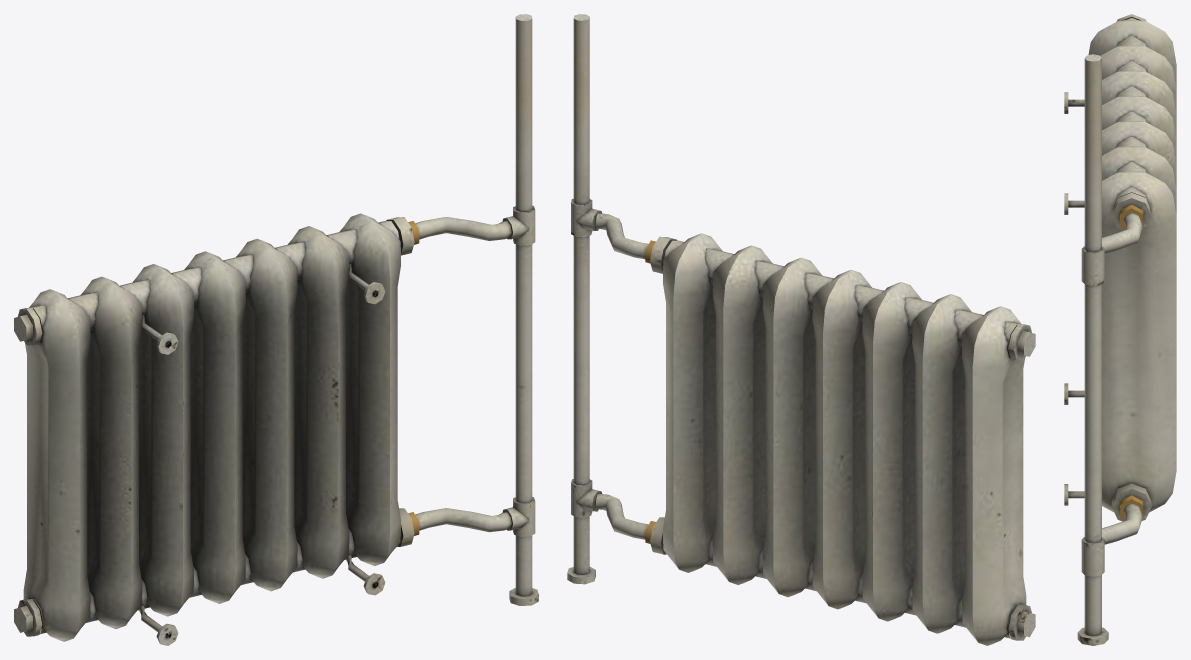
File: rad_7_riser_left_lod1_web.glb
The picture shows the model from 3 angles, left to right: view 1: azimuth 30°, elevation 25°; view 2: azimuth 150°, elevation 25°; view 3: azimuth 270°, elevation 25°; orthographic projection. The views are drawn at different scales.
Visible parts, largest first — view 1: Rad7RiserLeft_Body; view 2: Rad7RiserLeft_Body; view 3: Rad7RiserLeft_Body, Chrome_Fittings.
Part boxes in pixels (x1,y1,x2,y2): Rad7RiserLeft_Body: [14, 14, 538, 645]; Rad7RiserLeft_Body: [567, 14, 1035, 645]; Rad7RiserLeft_Body: [1064, 14, 1176, 645]; Chrome_Fittings: [1120, 204, 1143, 519].
Bounding box in the file's own units: 0.895 × 1 × 0.175.
Materials: 2 (2 with a texture image).
